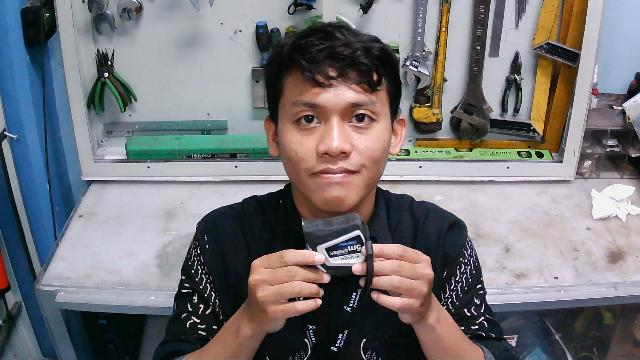meteran: (299, 213, 376, 303)
